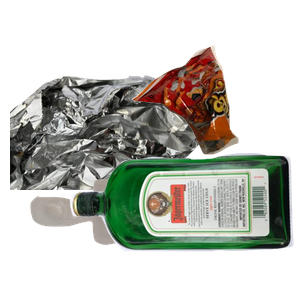glass: (67, 150, 300, 300)
metal: (10, 73, 212, 253)
plastic: (28, 176, 253, 300)
trash: (130, 43, 300, 190)
